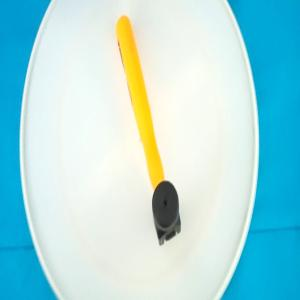martelo: (115, 14, 181, 246)
